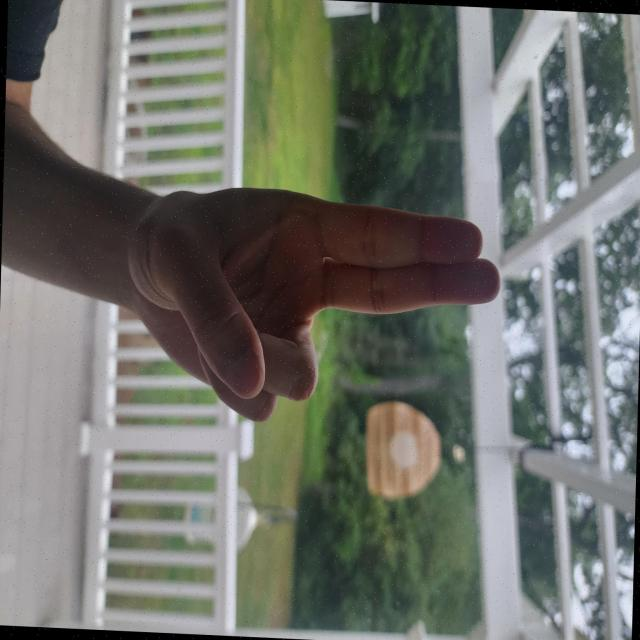U: (290, 182, 487, 640)
